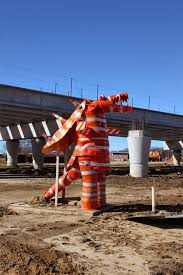barrel: (77, 125, 109, 171), (81, 177, 97, 208), (97, 177, 108, 208)
